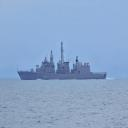Fragata: (18, 38, 109, 83)
